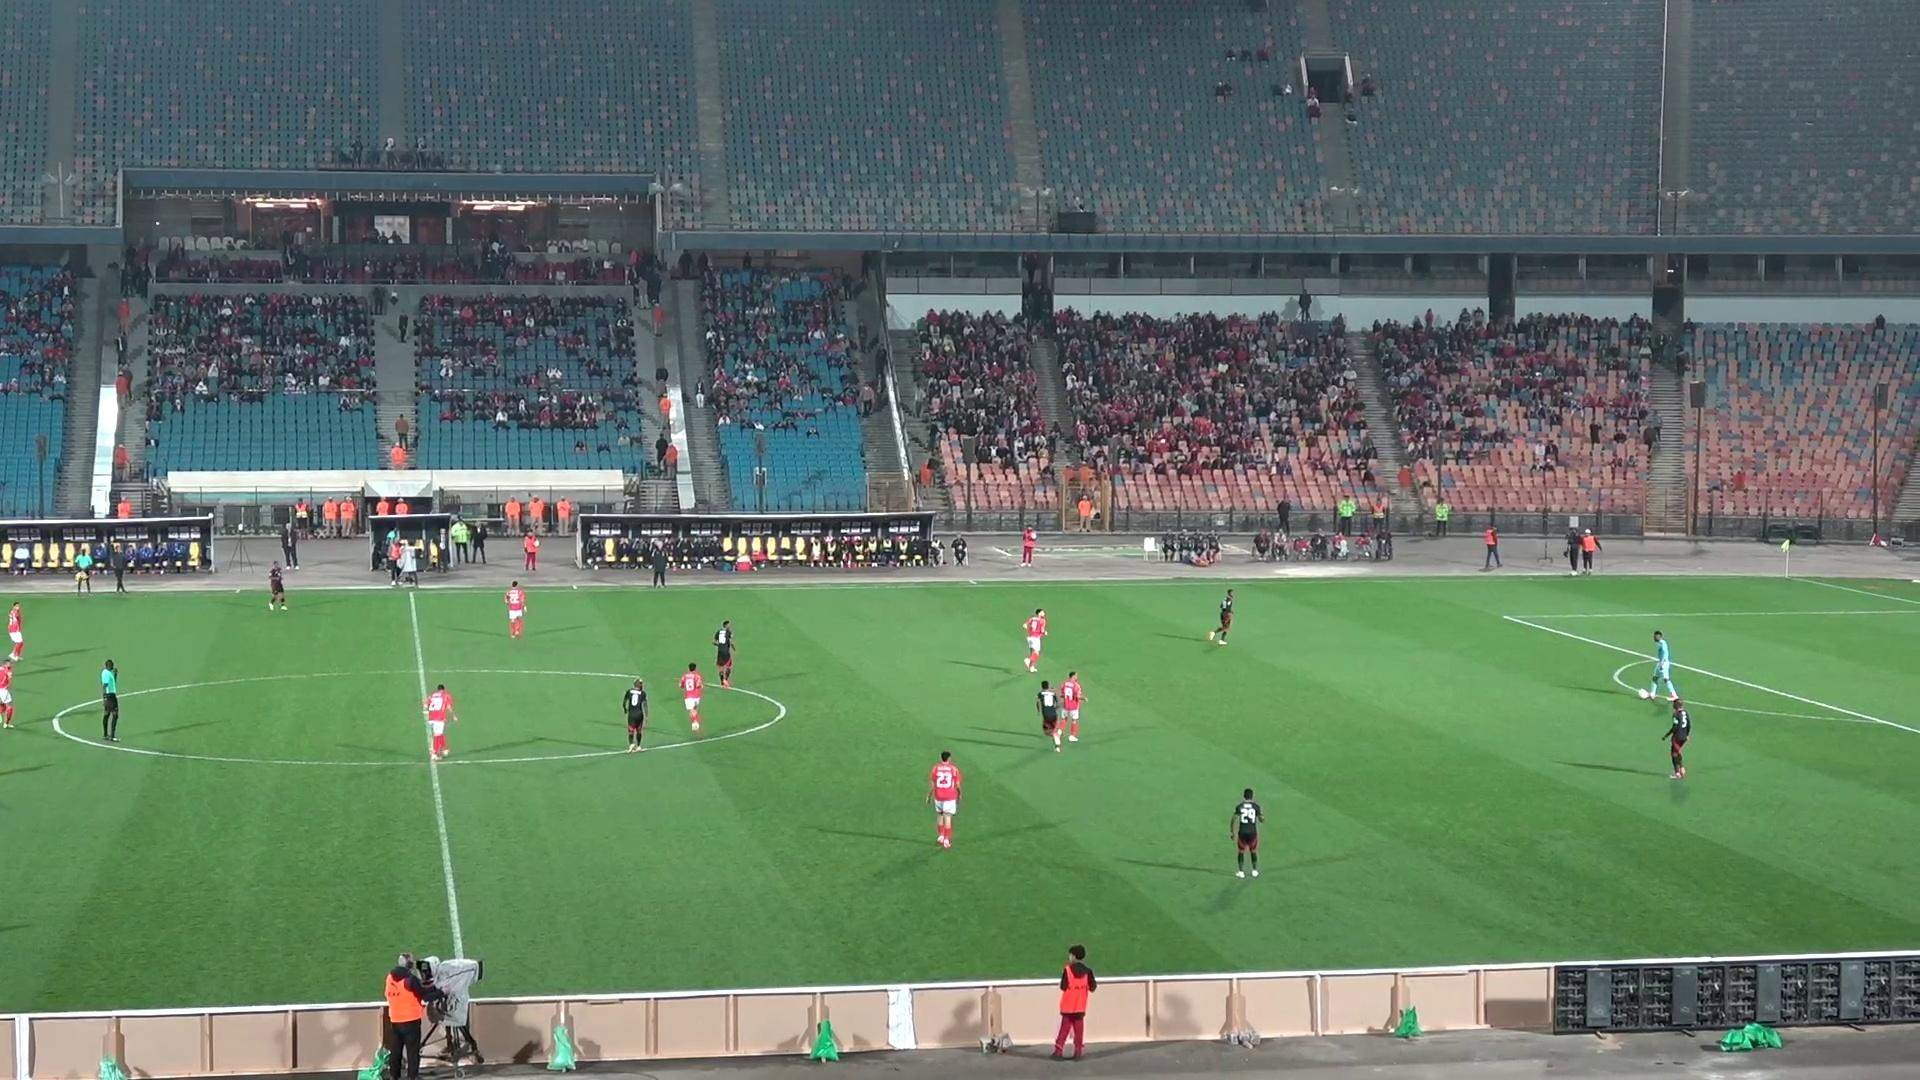Ball: (1635, 680, 1656, 702)
GK2: (1635, 630, 1680, 704)
Refree: (100, 658, 120, 741), (74, 545, 94, 593)
Team1: (924, 752, 963, 849), (1040, 671, 1087, 752), (422, 684, 458, 760), (678, 662, 705, 733), (1021, 608, 1050, 673), (505, 582, 527, 640), (0, 658, 17, 727)
Team2: (1230, 789, 1265, 876), (1663, 694, 1692, 778), (620, 676, 649, 752), (1035, 680, 1062, 749), (709, 620, 736, 687), (1207, 589, 1236, 645), (268, 560, 287, 609)
